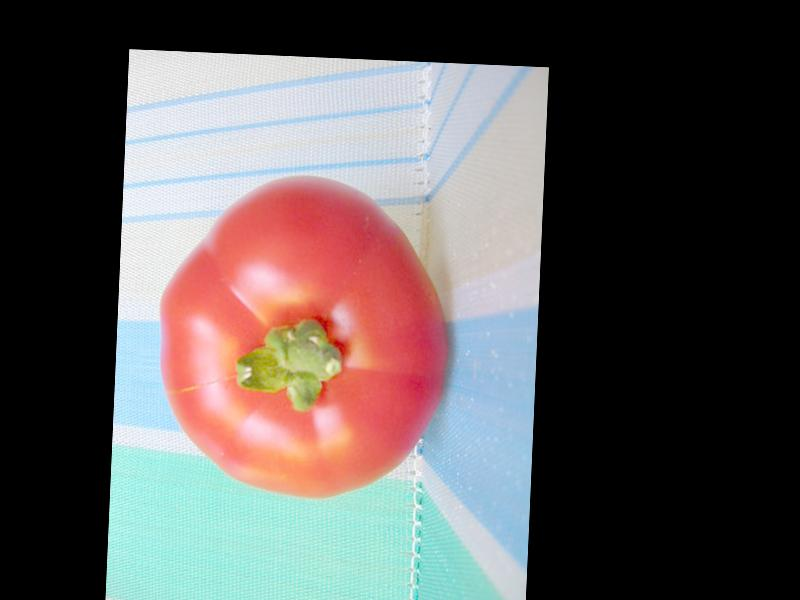Tomato: (151, 172, 456, 503)
